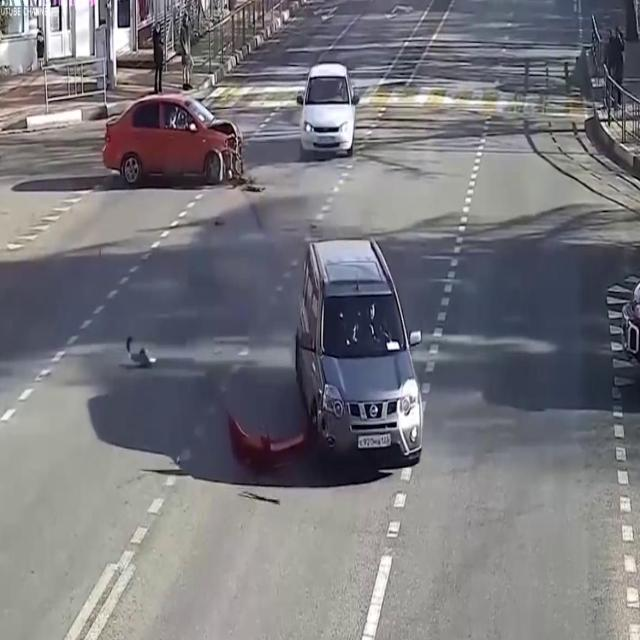accident: (224, 224, 436, 512), (96, 84, 268, 204)
